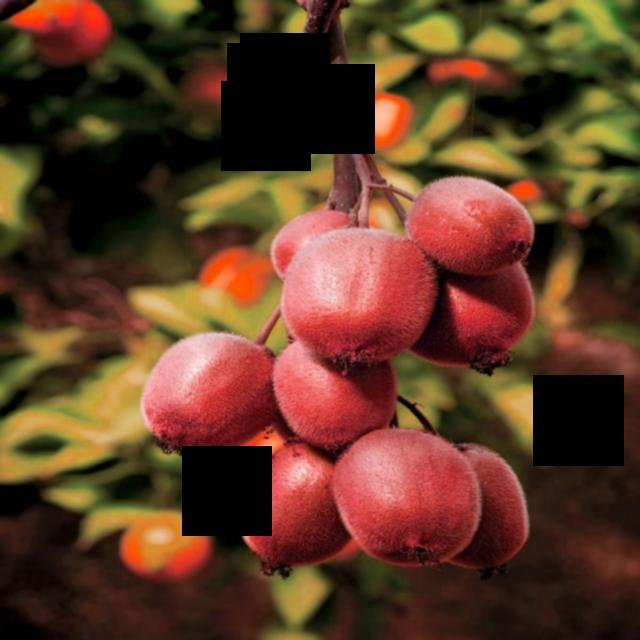kiwi: (276, 226, 443, 370), (328, 427, 480, 572), (133, 326, 276, 454), (232, 444, 361, 578), (265, 337, 407, 451), (404, 262, 542, 377), (398, 169, 546, 274), (438, 440, 539, 580), (265, 201, 367, 274)
